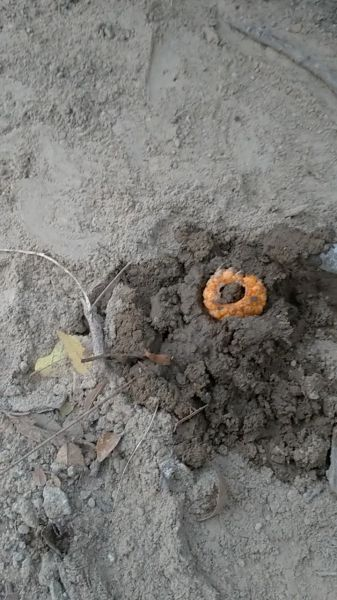eggs: (199, 268, 274, 324)
